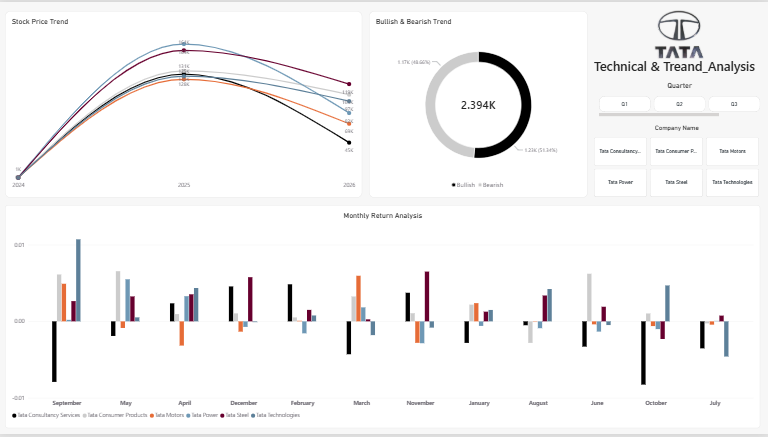

This screenshot's page, from the dashboard's own definition file:
{"tool":"powerbi","page":{"name":"Page_04_Market_Treands_&_Technical_Analysis","canvas":[1920,1080],"ordinal":3},"visuals":[{"type":"lineChart","title":"Stock Price Trend","fields":{"Category":["tata_group_stock_cleaned.Year_Month.Variation.Date Hierarchy.Year","tata_group_stock_cleaned.Year_Month.Variation.Date Hierarchy.Quarter","tata_group_stock_cleaned.Year_Month.Variation.Date Hierarchy.Month","tata_group_stock_cleaned.Year_Month.Variation.Date Hierarchy.Day"],"Y":["Sum(tata_group_stock_cleaned.Adjusted Close)"],"Series":["tata_group_stock_cleaned.Company Name"]},"box":[13.3,23.3,893.3,466.7],"z":0},{"type":"clusteredColumnChart","title":"Monthly Return Analysis","fields":{"Category":["tata_group_stock_cleaned.Month_Name"],"Y":["tata_group_stock_cleaned.Average Daily Return"],"Series":["tata_group_stock_cleaned.Company Name"]},"box":[12.5,507.5,1887.5,557.5],"z":1000},{"type":"donutChart","title":"Bullish & Bearish Trend","fields":{"Category":["tata_group_stock_cleaned.Trend_Signal"],"Y":["CountNonNull(tata_group_stock_cleaned.Date)"]},"box":[922.5,22.5,546.7,466.7],"z":2000},{"type":"textbox","box":[1486.1,138.2,434.2,60.5],"z":3000},{"type":"advancedSlicerVisual","fields":{"Values":["tata_group_stock_cleaned.Company Name"]},"box":[1486.1,304.6,414.7,183.6],"z":4000},{"type":"image","box":[1589.8,0,207.4,168.5],"z":5000},{"type":"advancedSlicerVisual","fields":{"Values":["tata_group_stock_cleaned.Quarter"]},"box":[1496.9,198.7,403.9,90.7],"z":6000}]}

Visuals, with their boxes in screenshot pixels (x1, y1, x2, y2), scaled from the page's 1920x1080 canvas onto the 768x437 screenshot:
"Stock Price Trend" lineChart: 5 9 363 198
"Monthly Return Analysis" clusteredColumnChart: 5 205 760 431
"Bullish & Bearish Trend" donutChart: 369 9 588 198
textbox: 594 56 767 80
advancedSlicerVisual - tata_group_stock_cleaned.Company Name: 594 123 760 198
image: 636 0 719 68
advancedSlicerVisual - tata_group_stock_cleaned.Quarter: 599 80 760 117
